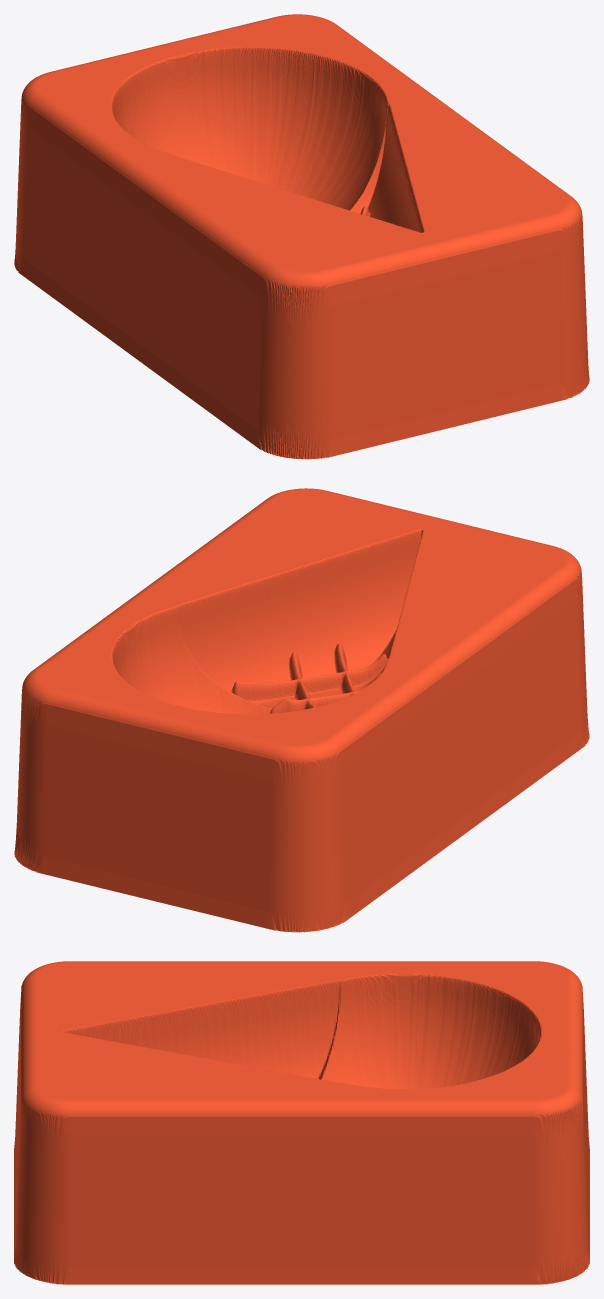
The model's file is mold.glb.
The picture shows the model from 3 angles, top to bottom: view 1: azimuth 30°, elevation 25°; view 2: azimuth 150°, elevation 25°; view 3: azimuth 270°, elevation 25°; orthographic projection.
Visible parts, largest first — view 1: geometry_0; view 2: geometry_0; view 3: geometry_0.
Part boxes in pixels (x1,y1,x2,y2): geometry_0: (14,14,589,459); geometry_0: (14,488,589,932); geometry_0: (14,961,589,1284).
Bounding box in the file's own units: 0.0594 × 0.031 × 0.0924.
